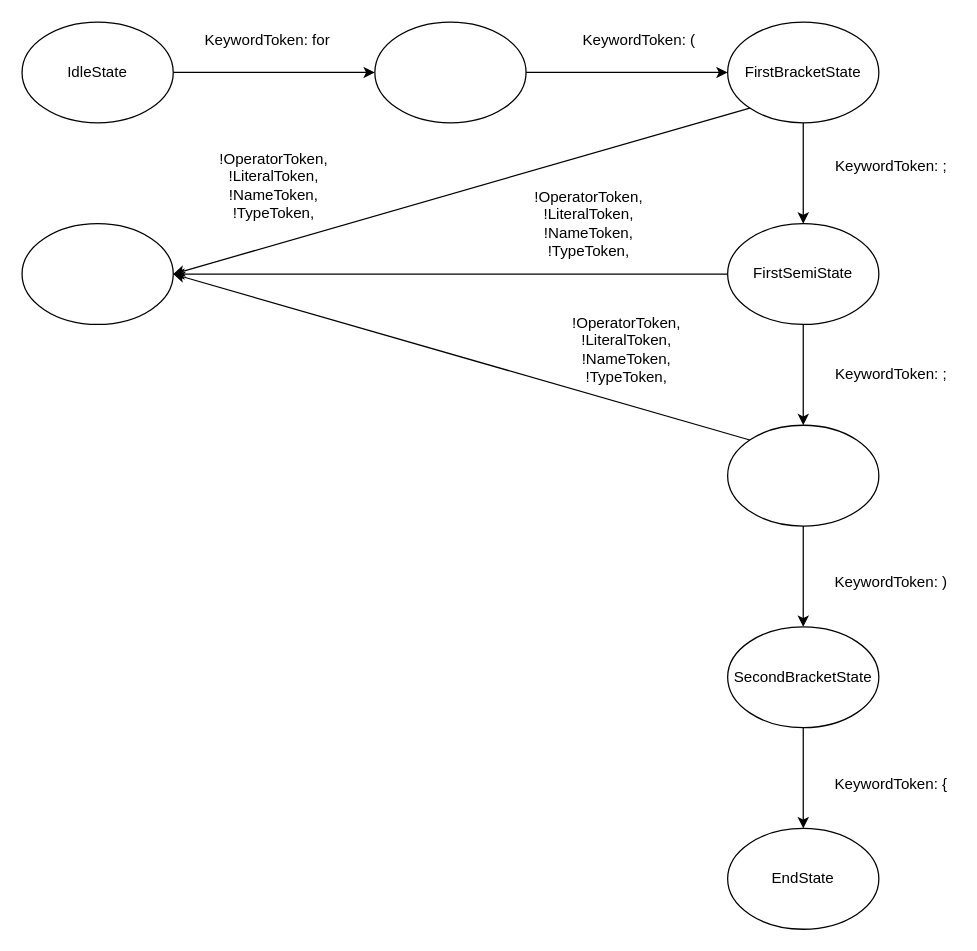
Image size: 977x951. Some labels were removed from this diagram. The centre of each missing label's shape, as x and y in pixels:
"ForState" belongs at point (450, 72).
"InvalidState" belongs at point (97, 273).
"SecondSemiState" belongs at point (802, 475).
